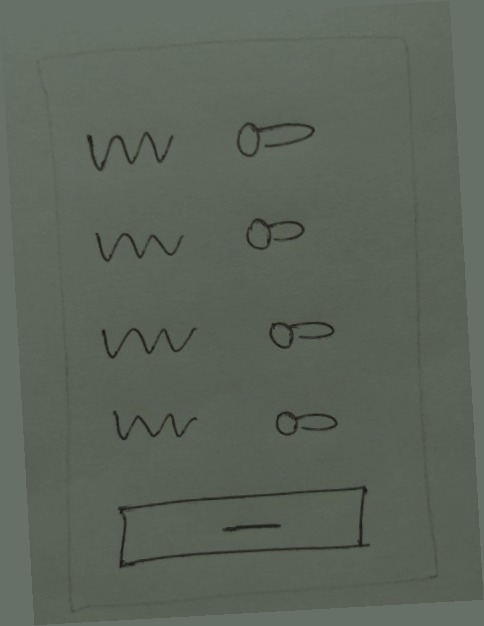button: (104, 479, 394, 573)
switch: (226, 106, 325, 166), (228, 207, 325, 263), (255, 307, 349, 360), (263, 396, 355, 449)
text: (89, 311, 208, 371), (94, 395, 208, 455), (78, 121, 187, 177), (86, 219, 194, 275)
